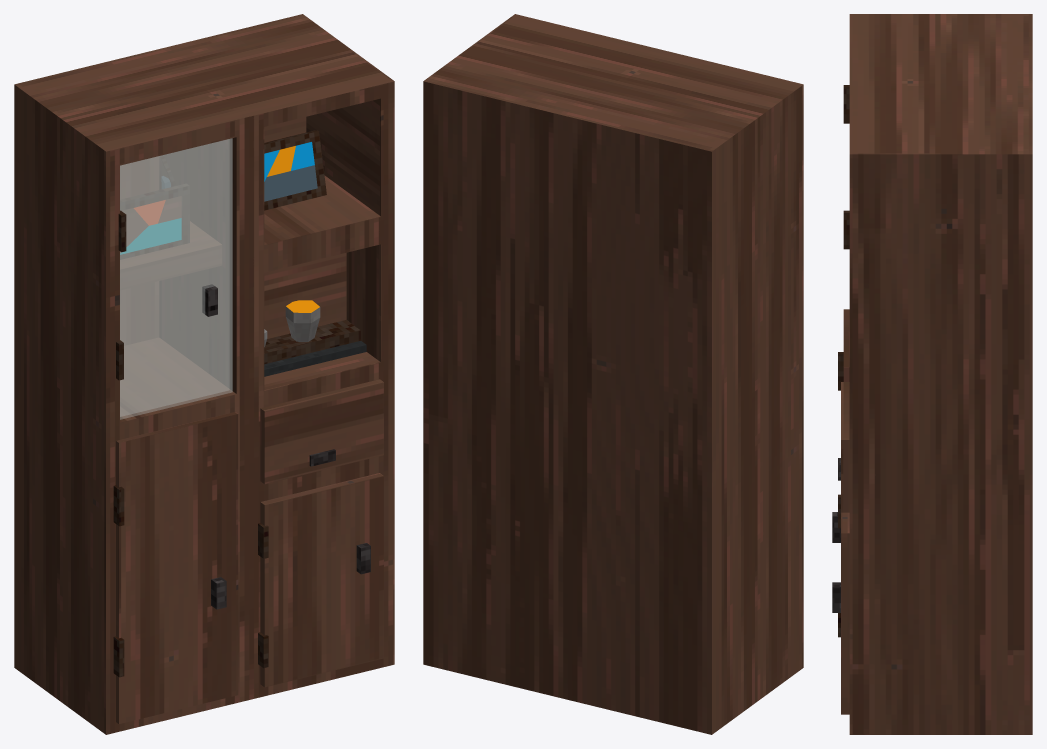
Rendered from cabinet_with_pics_.fbx.
3 renders of one model, left to right at view 1: azimuth 30°, elevation 25°; view 2: azimuth 150°, elevation 25°; view 3: azimuth 270°, elevation 25°, orthographic.
Parts seen in each view (by area): view 1: group8093476; view 2: group8093476; view 3: group8093476.
Part boxes in pixels (x1,y1,x2,y2): group8093476: [14, 14, 394, 734]; group8093476: [423, 14, 803, 734]; group8093476: [832, 14, 1032, 734].
Bounding box in the file's own units: 124 × 239 × 74.58.
